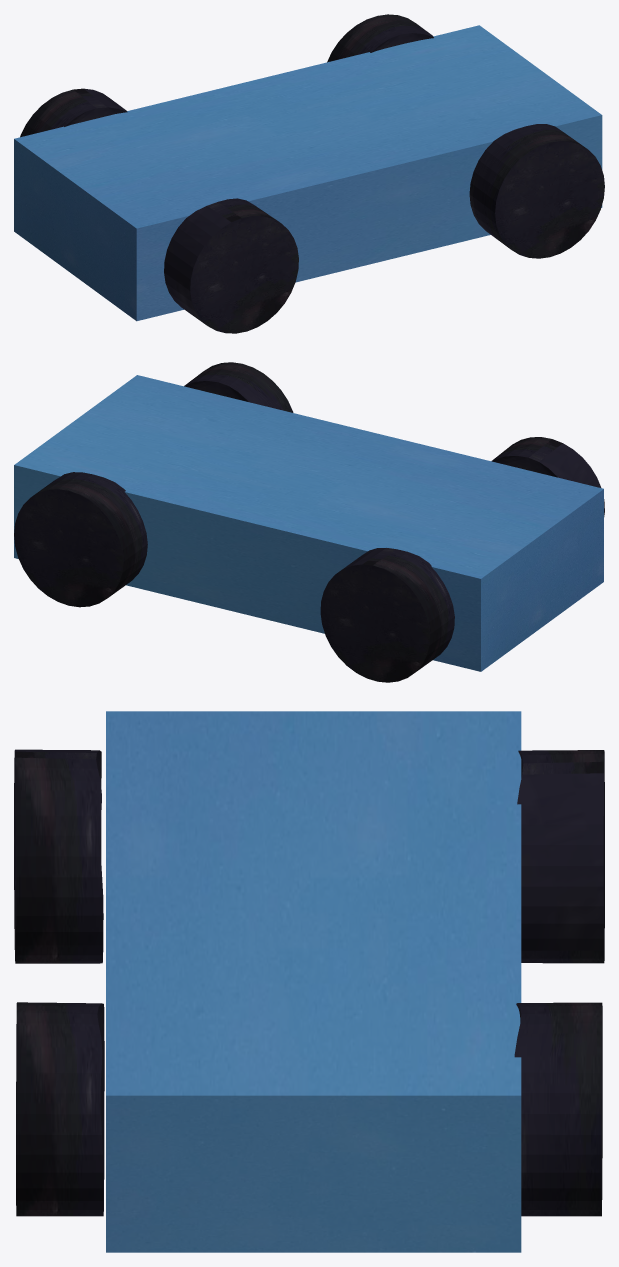
File: canedudev_rover.dae
3 views of the same model, one above another, from view 1: azimuth 30°, elevation 25°; view 2: azimuth 150°, elevation 25°; view 3: azimuth 270°, elevation 25° (orthographic). The views are drawn at different scales.
Parts seen in each view (by area): view 1: rover, tire03, tire01, tire02, tire04; view 2: rover, tire02, tire04, tire01, tire03; view 3: rover, tire03, tire01, tire02, tire04.
Part boxes in pixels (box(x1,y1,x2,y2)): rover: box(14, 25, 602, 321); tire03: box(469, 124, 604, 258); tire01: box(164, 198, 298, 333); tire02: box(20, 88, 127, 137); tire04: box(327, 14, 433, 62); rover: box(14, 375, 603, 671); tire02: box(320, 548, 454, 682); tire04: box(14, 472, 147, 607); tire01: box(491, 437, 604, 516); tire03: box(184, 362, 293, 412); rover: box(106, 711, 521, 1252); tire03: box(16, 1002, 104, 1216); tire01: box(14, 749, 103, 963); tire02: box(517, 750, 604, 963); tire04: box(514, 1002, 602, 1216).
Size of the model in its own units: 1.46 by 0.9478 by 0.3433.
2 materials, 2 textured.
